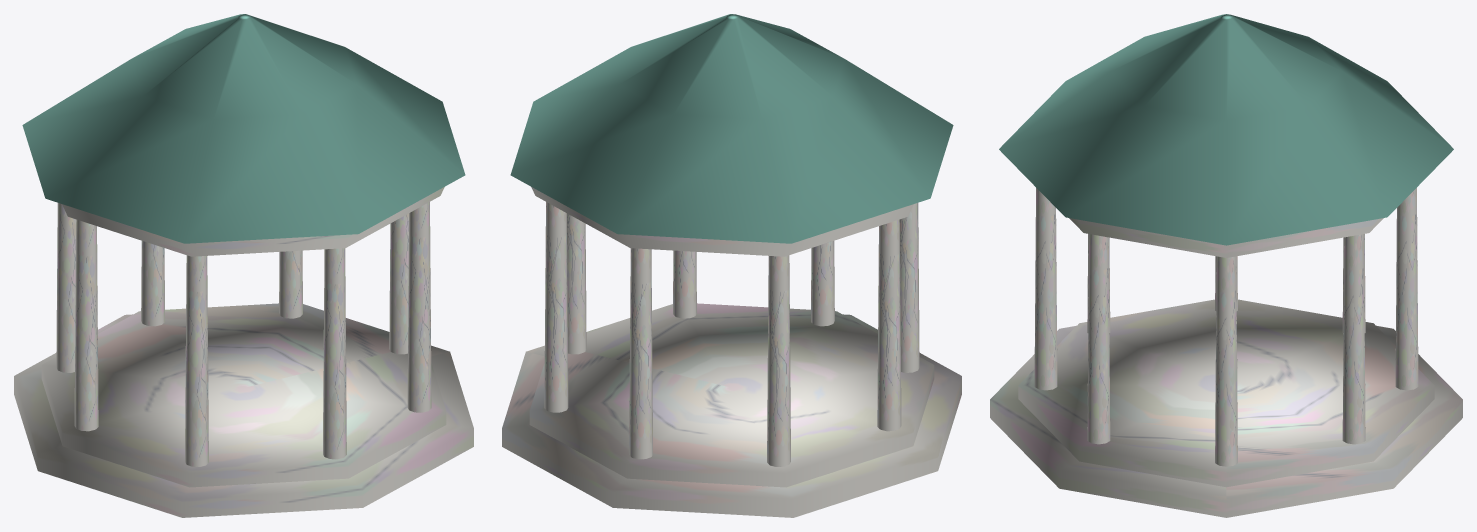
Rendered from arch_park_gazebo.glb.
The picture shows the model from 3 angles, left to right: view 1: azimuth 30°, elevation 25°; view 2: azimuth 150°, elevation 25°; view 3: azimuth 270°, elevation 25°; orthographic projection.
Visible parts, largest first — view 1: structure, roof; view 2: structure, roof; view 3: structure, roof.
Part boxes in pixels (left/top/right/bottom): structure: left=14, top=187, right=473, bottom=517; roof: left=22, top=14, right=465, bottom=243; structure: left=502, top=187, right=961, bottom=517; roof: left=510, top=14, right=953, bottom=243; structure: left=990, top=188, right=1462, bottom=517; roof: left=999, top=14, right=1453, bottom=245.
Bounding box in the file's own units: 5.5 × 5.15 × 5.5.
2 materials, 1 textured.
